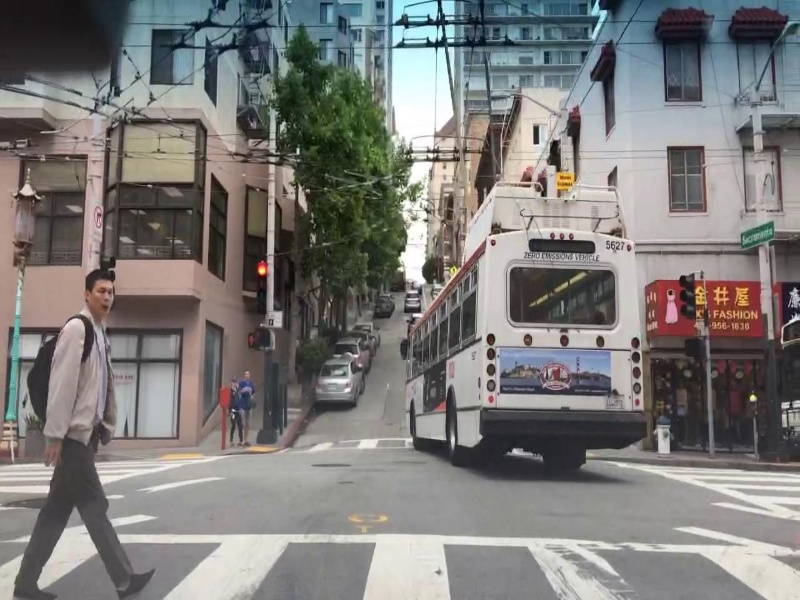bus: (397, 232, 656, 485)
car: (312, 355, 362, 411), (337, 333, 373, 359), (402, 284, 418, 312), (374, 296, 393, 317)
person: (12, 257, 154, 599), (239, 365, 259, 447), (227, 374, 247, 454)
